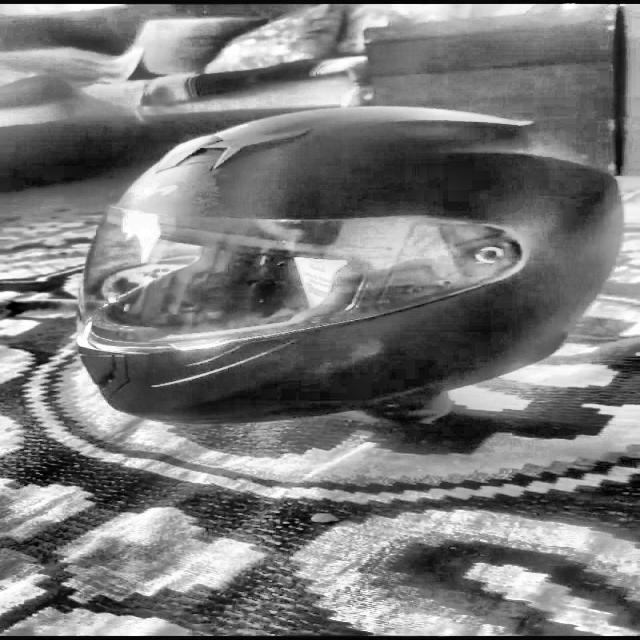Helmet: (78, 107, 626, 438)
